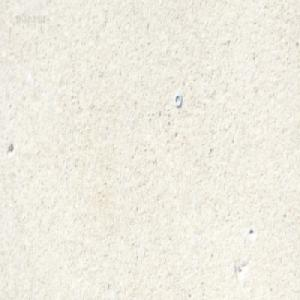Washer: (174, 92, 181, 107)
